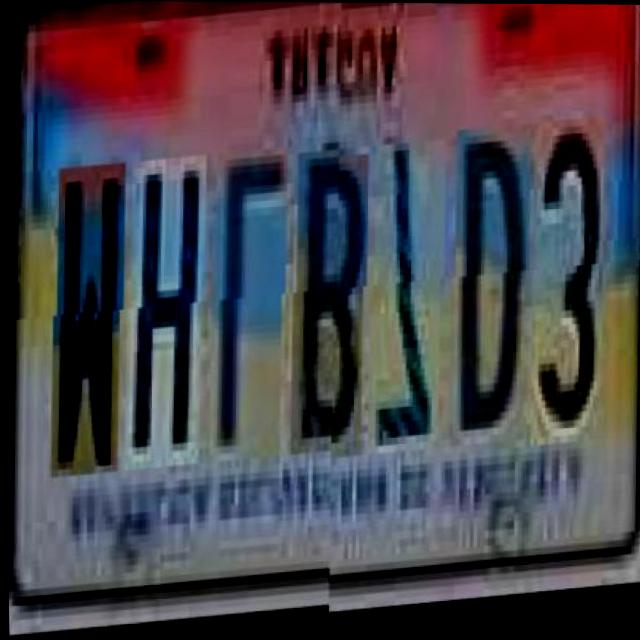3: (527, 121, 605, 449)
7: (366, 140, 447, 455)
b: (289, 152, 369, 460)
d: (447, 126, 532, 448)
h: (122, 159, 207, 474)
l: (208, 152, 289, 466)
m: (49, 164, 127, 479)
